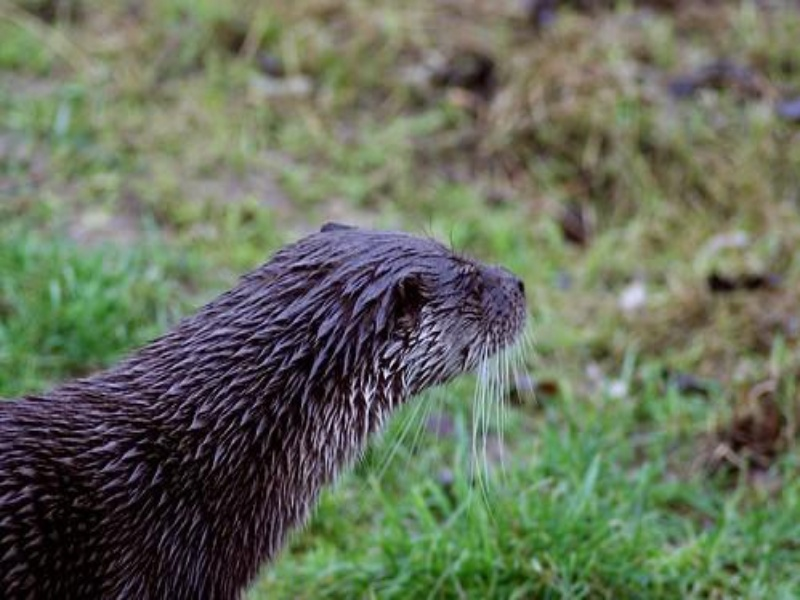minkish: (1, 218, 531, 594)
